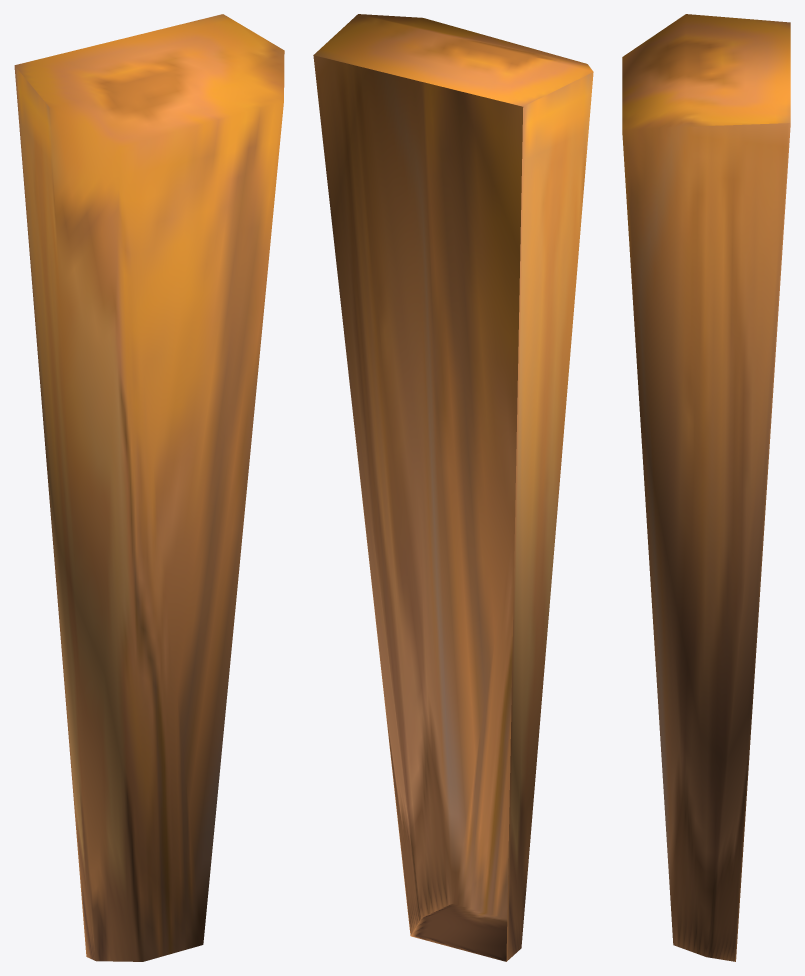
The model's file is Chapter1Scene1Model45.FBX.
3 renders of one model, left to right at view 1: azimuth 30°, elevation 25°; view 2: azimuth 150°, elevation 25°; view 3: azimuth 270°, elevation 25°, orthographic.
Visible parts, largest first — view 1: Chapter1Scene1Model45; view 2: Chapter1Scene1Model45; view 3: Chapter1Scene1Model45.
Part boxes in pixels (<box>): Chapter1Scene1Model45: <box>14,14,284,961</box>; Chapter1Scene1Model45: <box>313,14,593,961</box>; Chapter1Scene1Model45: <box>622,14,790,961</box>.
Bounding box in the file's own units: 36.95 × 23.23 × 133.
